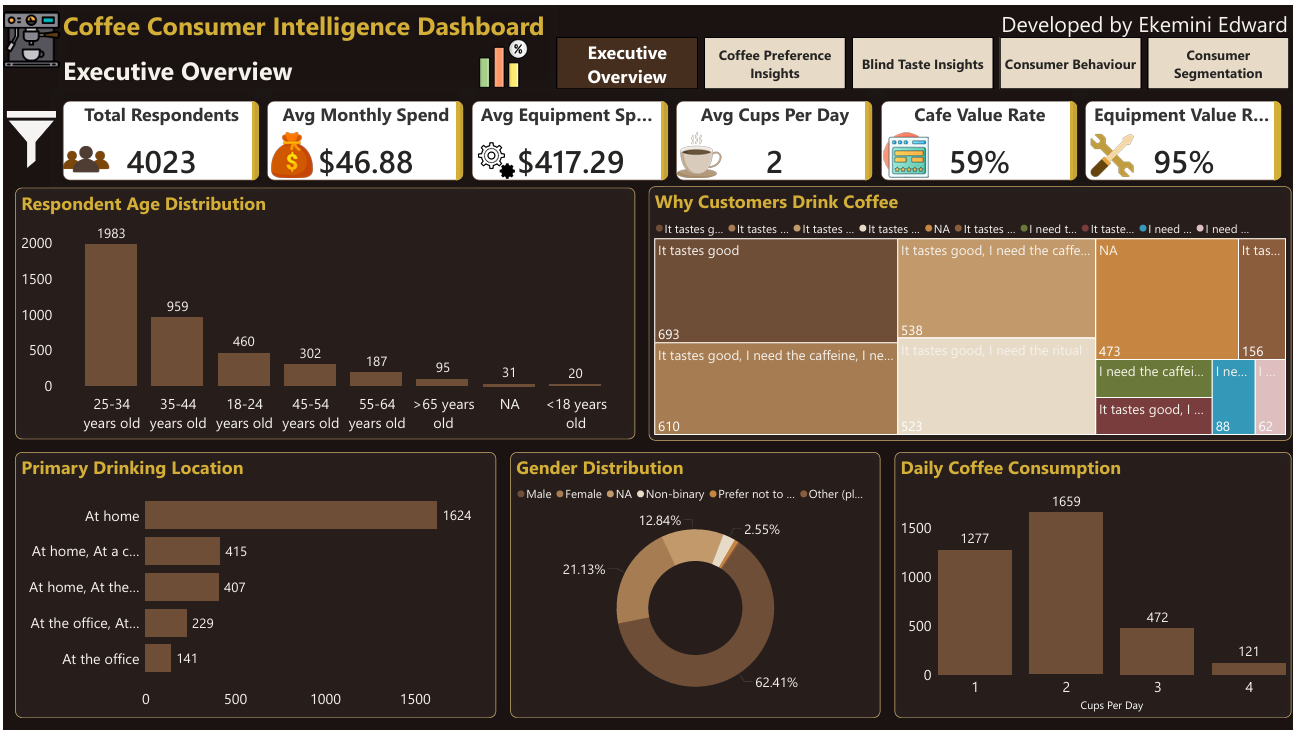

The dashboard page shown, as its layout file describes it:
{"tool":"powerbi","page":{"name":"Executive Overview","canvas":[1920,1080],"ordinal":0},"visuals":[{"type":"cardVisual","fields":{"Data":["_Measures.Total Respondents"]},"box":[71.7,125.6,326.2,152.1],"z":0},{"type":"image","box":[0,143.3,83.8,114.6],"z":0,"group":"g1"},{"type":"clusteredColumnChart","title":"Daily Coffee Consumption","fields":{"Category":["Coffee_Survey_Facts.cups_per_day"],"Y":["_Measures.Total Respondents"]},"box":[1326.9,665.6,590.7,396.7],"z":1000},{"type":"clusteredColumnChart","title":"Respondent Age Distribution","fields":{"Category":["Coffee_Survey_Facts.age"],"Y":["_Measures.Total Respondents"]},"box":[17.6,272.2,923.5,374.7],"z":2000},{"type":"donutChart","title":"Gender Distribution","fields":{"Category":["Coffee_Survey_Facts.gender"],"Y":["_Measures.Total Respondents"]},"box":[754.9,665.6,551,396.7],"z":3000},{"type":"clusteredBarChart","title":"Primary Drinking Location","fields":{"Category":["Coffee_Survey_Facts.primary_drinking_location"],"Y":["_Measures.Total Respondents"]},"box":[17.6,665.6,716.3,396.7],"z":4000},{"type":"treemap","title":"Why Customers Drink Coffee","fields":{"Group":["Coffee_Survey_Facts.why_drink"],"Values":["_Measures.Total Respondents"]},"box":[961,270,956.6,379.1],"z":5000},{"type":"cardVisual","fields":{"Data":["_Measures.Avg Monthly Spend"]},"box":[376.3,125.6,326.2,152.1],"z":6000},{"type":"cardVisual","fields":{"Data":["_Measures.Avg Equipment Spend"]},"box":[680.9,125.6,326.2,152.1],"z":7000},{"type":"cardVisual","fields":{"Data":["_Measures.Avg Cups Per Day"]},"box":[985.5,125.6,326.2,152.1],"z":8000},{"type":"cardVisual","fields":{"Data":["_Measures.Cafe Value Rate"]},"box":[1290.1,125.6,326.2,152.1],"z":9000},{"type":"cardVisual","fields":{"Data":["_Measures.Equipment Value Rate"]},"box":[1593.6,125.6,326.2,152.1],"z":10000},{"type":"textbox","box":[83.8,0,740.6,125.6],"z":11000},{"type":"pageNavigator","box":[824.3,48.5,1093.2,77.1],"z":12000},{"type":"group","id":"g1","title":"Overview Filter ","box":[0,143.3,387.9,919.1],"z":13000},{"type":"textbox","box":[1481.1,0,438.6,63.9],"z":14000},{"type":"image","box":[72.7,189.6,101.4,79.3],"z":15000},{"type":"image","box":[379.1,189.6,101.4,68.3],"z":16000},{"type":"image","box":[687.7,202.8,92.6,57.3],"z":17000},{"type":"image","box":[985.2,189.6,101.4,68.3],"z":18000},{"type":"image","box":[1289.4,189.6,110.2,68.3],"z":19000},{"type":"image","box":[1600.2,189.6,101.4,68.3],"z":20000},{"type":"image","box":[0,0,83.8,103.6],"z":21000},{"type":"image","box":[687.7,48.5,114.6,77.1],"z":22000}]}

Visuals, with their boxes in screenshot pixels (x1, y1, x2, y2), scaled from the page's 1920x1080 canvas onto the 1295x731 screenshot:
cardVisual - _Measures.Total Respondents: <box>48,85,268,188</box>
image: <box>0,97,57,175</box>
"Daily Coffee Consumption" clusteredColumnChart: <box>895,451,1293,719</box>
"Respondent Age Distribution" clusteredColumnChart: <box>12,184,635,438</box>
"Gender Distribution" donutChart: <box>509,451,881,719</box>
"Primary Drinking Location" clusteredBarChart: <box>12,451,495,719</box>
"Why Customers Drink Coffee" treemap: <box>648,183,1293,439</box>
cardVisual - _Measures.Avg Monthly Spend: <box>254,85,474,188</box>
cardVisual - _Measures.Avg Equipment Spend: <box>459,85,679,188</box>
cardVisual - _Measures.Avg Cups Per Day: <box>665,85,885,188</box>
cardVisual - _Measures.Cafe Value Rate: <box>870,85,1090,188</box>
cardVisual - _Measures.Equipment Value Rate: <box>1075,85,1294,188</box>
textbox: <box>57,0,556,85</box>
pageNavigator: <box>556,33,1293,85</box>
"Overview Filter " group: <box>0,97,262,719</box>
textbox: <box>999,0,1294,43</box>
image: <box>49,128,117,182</box>
image: <box>256,128,324,175</box>
image: <box>464,137,526,176</box>
image: <box>664,128,733,175</box>
image: <box>870,128,944,175</box>
image: <box>1079,128,1148,175</box>
image: <box>0,0,57,70</box>
image: <box>464,33,541,85</box>
